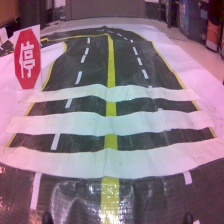stop: (12, 23, 44, 91)
